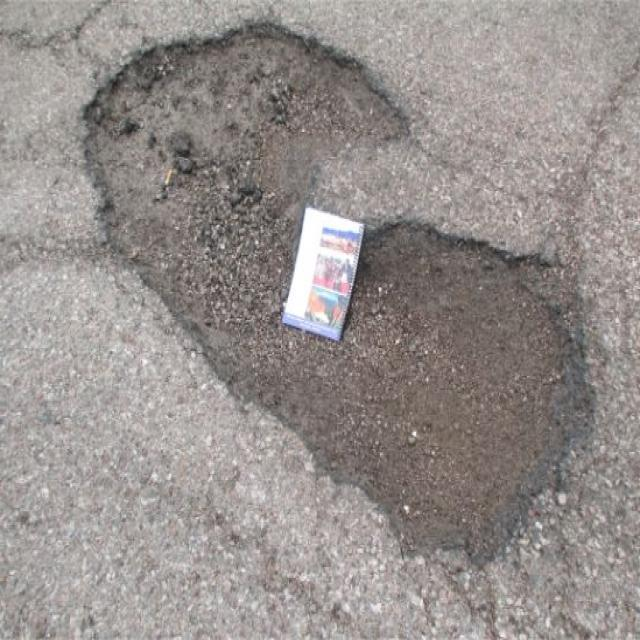Pothole: (71, 12, 604, 579)
